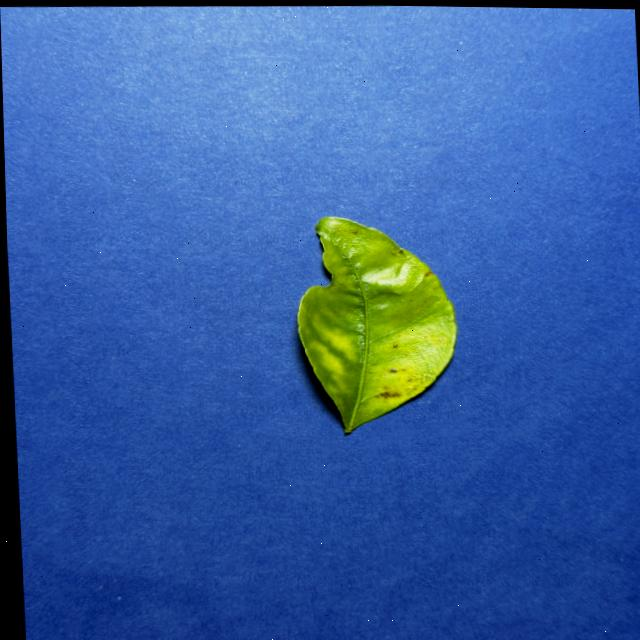greening: (297, 216, 455, 431)
